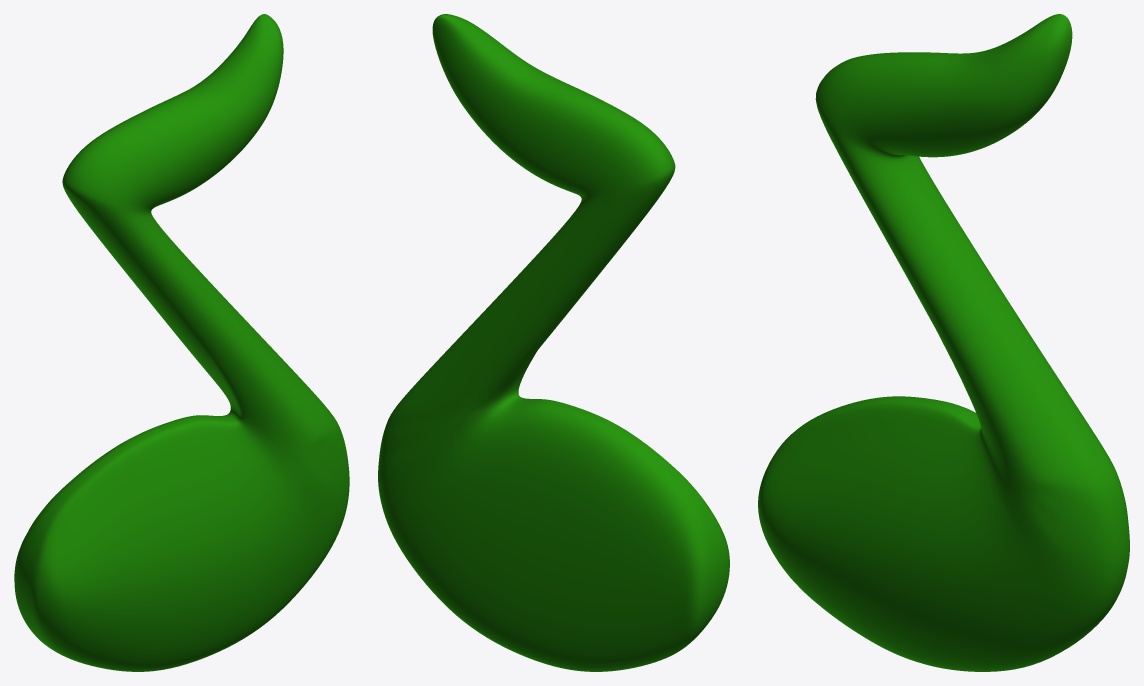
The picture shows the model from 3 angles, left to right: view 1: azimuth 30°, elevation 25°; view 2: azimuth 150°, elevation 25°; view 3: azimuth 330°, elevation 25°; orthographic projection. The views are drawn at different scales.
Visible parts, largest first — view 1: Line002; view 2: Line002; view 3: Line002.
Part boxes in pixels (box(x1,y1,x2,y2)): Line002: box(14, 14, 349, 671); Line002: box(378, 14, 729, 671); Line002: box(758, 14, 1129, 671).
Size of the model in its own units: 273 by 495 by 59.27.
